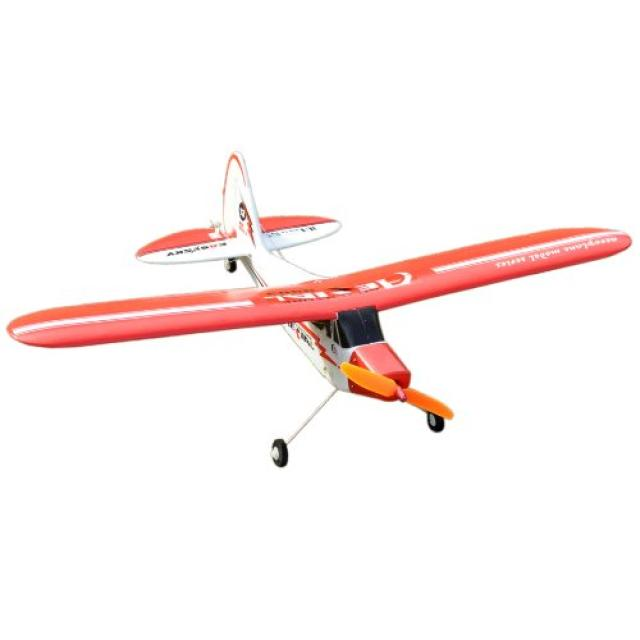iha: (1, 148, 639, 469)
